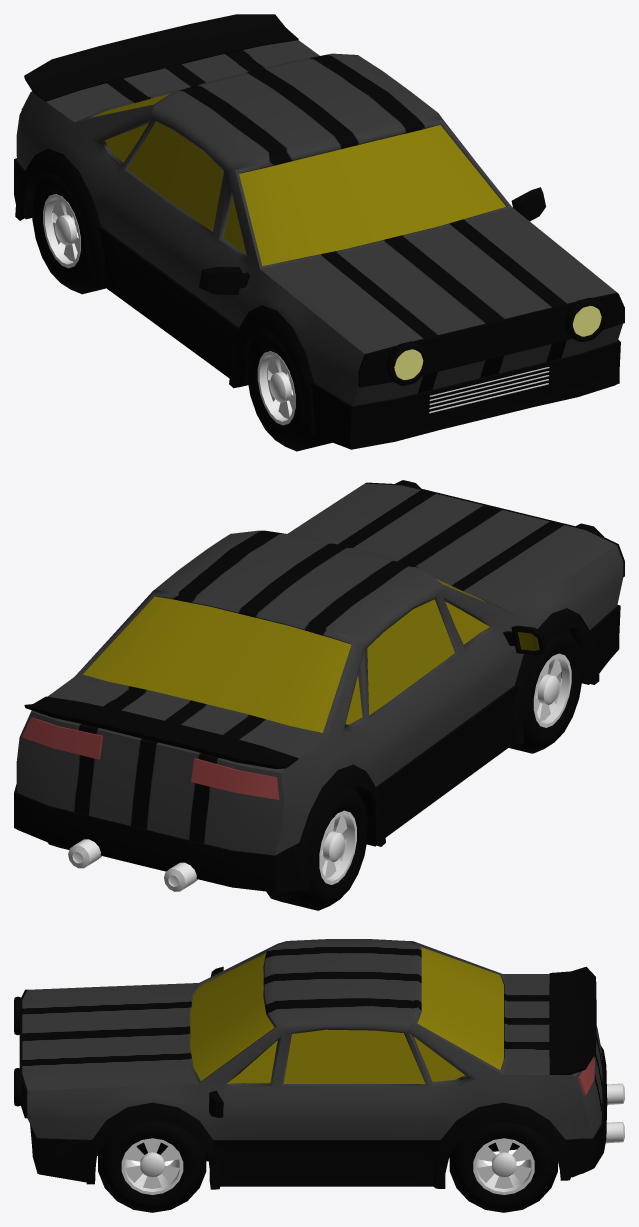
Rendered from Muscle Evolution2 Black TrilineBlackGrey DarkYellow White.gltf.
The picture shows the model from 3 angles, top to bottom: view 1: azimuth 30°, elevation 25°; view 2: azimuth 150°, elevation 25°; view 3: azimuth 270°, elevation 25°; orthographic projection. The views are drawn at different scales.
Visible parts, largest first — view 1: evo2_body2_f1_dupl, evo2_frontGlass_f1_dupl, evo2_sill2_f1_dupl, evo2_spoiler2_f1_dupl, evo2_front_square2_f1_dupl, evo2_glasseBigR_f1_dupl, evo2_mudguardFR_f1_dupl, evo2_mudguardbR_f1_dupl, evo2_tire_rf1_f1_dupl, evo2_tire_rf_f1_dupl, evo2_rim_A_rf_f1_dupl, evo2_rim_A_rb_f1_dupl (+9 smaller); view 2: evo2_body2_f1_dupl, evo2_BackGlassGlass_f1_dupl, evo2_sill2_f1_dupl, evo2_spoiler2_f1_dupl, evo2_glasseBigR_f1_dupl, evo2_tire_rf_f1_dupl, evo2_mudguardbR_f1_dupl, evo2_mudguardFR_f1_dupl, evo2_tire_rf1_f1_dupl, evo2_rim_A_rf_f1_dupl, evo2_rim_A_rb_f1_dupl, evo2_redlightR2_f1_dupl (+5 smaller); view 3: evo2_body2_f1_dupl, evo2_sill2_f1_dupl, evo2_BackGlassGlass_f1_dupl, evo2_glasseBigL_f1_dupl, evo2_frontGlass_f1_dupl, evo2_tire_lf_f1_dupl, evo2_tire_lb_f1_dupl, evo2_spoiler2_f1_dupl, evo2_mudguardBL_f1_dupl, evo2_mudguardFL_f1_dupl, evo2_rim_A_lf_f1_dupl, evo2_rim_A_lb_f1_dupl (+4 smaller).
Boxes of the visible parts, x1,y1,x2,y2 form: evo2_body2_f1_dupl: [16, 40, 622, 405]; evo2_frontGlass_f1_dupl: [239, 125, 505, 265]; evo2_sill2_f1_dupl: [14, 158, 620, 449]; evo2_spoiler2_f1_dupl: [24, 14, 298, 101]; evo2_front_square2_f1_dupl: [358, 292, 624, 387]; evo2_glasseBigR_f1_dupl: [128, 121, 223, 231]; evo2_mudguardFR_f1_dupl: [229, 305, 314, 437]; evo2_mudguardbR_f1_dupl: [15, 148, 104, 286]; evo2_tire_rf1_f1_dupl: [247, 327, 331, 451]; evo2_tire_rf_f1_dupl: [32, 171, 105, 294]; evo2_rim_A_rf_f1_dupl: [257, 351, 295, 425]; evo2_rim_A_rb_f1_dupl: [43, 194, 80, 268]; evo2_body2_f1_dupl: [16, 483, 623, 855]; evo2_BackGlassGlass_f1_dupl: [83, 596, 351, 732]; evo2_sill2_f1_dupl: [14, 605, 620, 891]; evo2_spoiler2_f1_dupl: [24, 696, 298, 768]; evo2_glasseBigR_f1_dupl: [367, 599, 454, 715]; evo2_tire_rf_f1_dupl: [266, 787, 367, 910]; evo2_mudguardbR_f1_dupl: [299, 764, 385, 891]; evo2_mudguardFR_f1_dupl: [512, 608, 599, 746]; evo2_tire_rf1_f1_dupl: [509, 629, 582, 753]; evo2_rim_A_rf_f1_dupl: [533, 653, 571, 727]; evo2_rim_A_rb_f1_dupl: [319, 810, 356, 884]; evo2_redlightR2_f1_dupl: [191, 758, 279, 799]; evo2_body2_f1_dupl: [22, 939, 602, 1159]; evo2_sill2_f1_dupl: [30, 1045, 607, 1186]; evo2_BackGlassGlass_f1_dupl: [417, 946, 503, 1070]; evo2_glasseBigL_f1_dupl: [283, 1029, 425, 1084]; evo2_frontGlass_f1_dupl: [190, 953, 274, 1080]; evo2_tire_lf_f1_dupl: [98, 1120, 206, 1212]; evo2_tire_lb_f1_dupl: [449, 1122, 557, 1212]; evo2_spoiler2_f1_dupl: [549, 966, 596, 1074]; evo2_mudguardBL_f1_dupl: [433, 1102, 570, 1188]; evo2_mudguardFL_f1_dupl: [86, 1102, 220, 1189]; evo2_rim_A_lf_f1_dupl: [121, 1138, 183, 1194]; evo2_rim_A_lb_f1_dupl: [473, 1138, 534, 1194].
Bounding box in the file's own units: 177 × 112 × 331.
7 materials, 1 textured.
